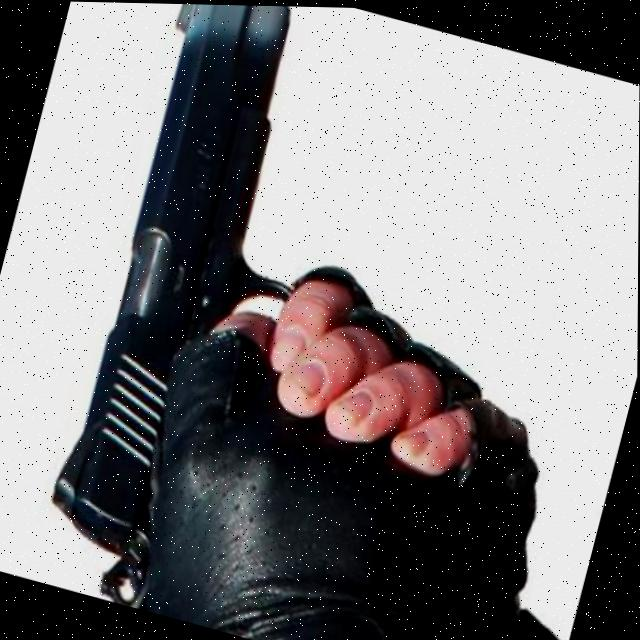pistol: (31, 1, 369, 629)
